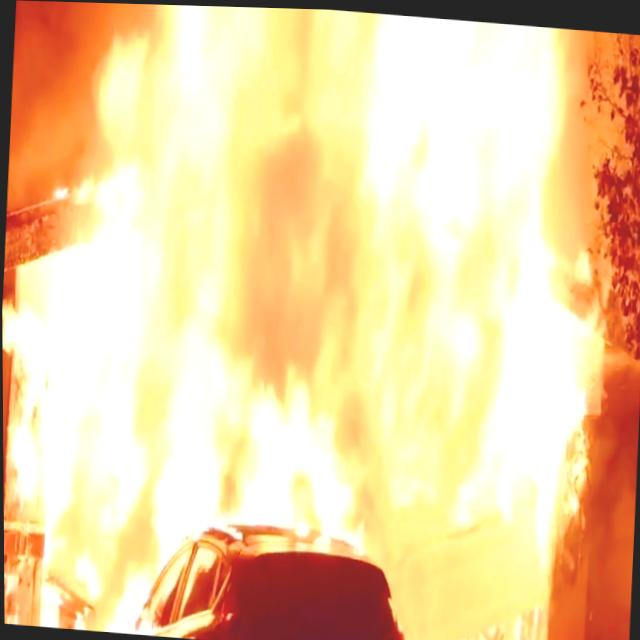fire: (314, 9, 592, 547), (147, 3, 337, 521), (5, 268, 141, 633), (70, 2, 173, 261), (418, 545, 543, 640)
smoke: (591, 541, 633, 640)
